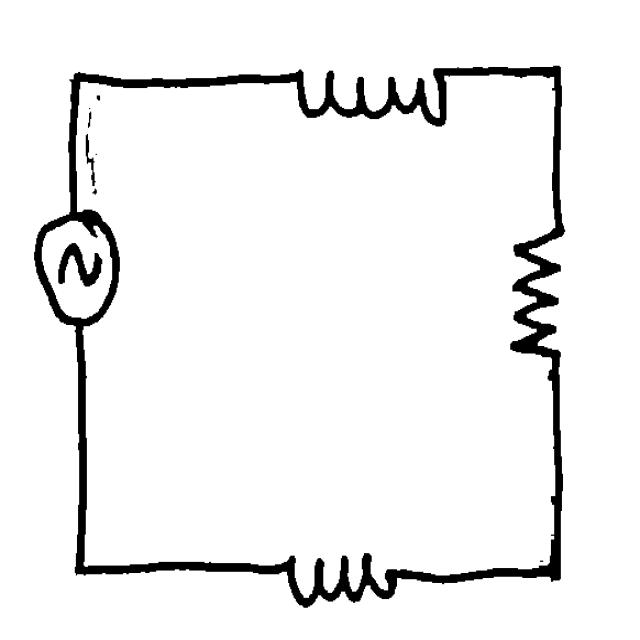inductor: (275, 57, 464, 134), (22, 204, 129, 338), (270, 543, 415, 615)
resistor: (500, 215, 582, 381)
